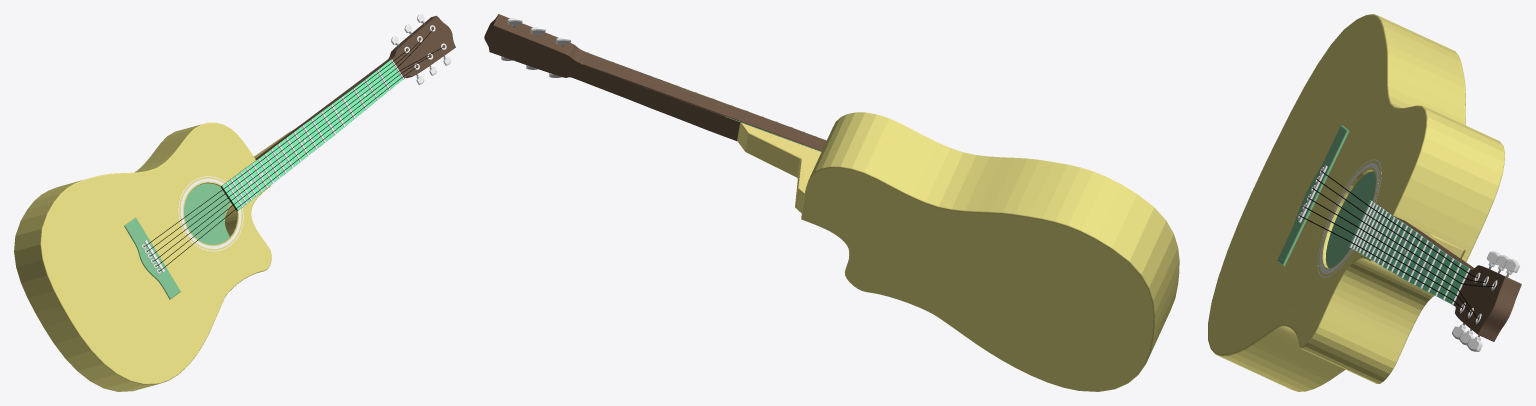
Rendered from EDITED@guitar_playing.fbx.
The picture shows the model from 3 angles, left to right: view 1: azimuth 30°, elevation 25°; view 2: azimuth 150°, elevation 25°; view 3: azimuth 270°, elevation 25°; orthographic projection. The views are drawn at different scales.
Parts seen in each view (by area): view 1: Line002, Shape001, Line018, Group01, Line003, Tube001, Line017; view 2: Line002, Shape001, Line004; view 3: Line002, Shape001, Line018, Group01, Line003, Tube001, Line004, Line017, Line014, Line016, Line013, Line015 (+2 smaller).
Part boxes in pixels (x1,y1,x2,y2): Line002: [14, 122, 271, 391]; Shape001: [221, 15, 455, 210]; Line018: [173, 208, 243, 303]; Group01: [184, 183, 231, 244]; Line003: [124, 217, 180, 299]; Tube001: [180, 178, 241, 248]; Line017: [153, 47, 443, 261]; Line002: [801, 112, 1179, 391]; Shape001: [484, 14, 826, 151]; Line004: [737, 122, 821, 212]; Line002: [1208, 14, 1504, 391]; Shape001: [1348, 200, 1521, 341]; Line018: [1274, 232, 1352, 311]; Group01: [1325, 171, 1375, 268]; Line003: [1277, 125, 1349, 266]; Tube001: [1319, 163, 1379, 273]; Line004: [1410, 224, 1465, 258]; Line017: [1307, 197, 1478, 318]; Line014: [1312, 188, 1493, 287]; Line016: [1303, 206, 1470, 312]; Line013: [1316, 179, 1485, 282]; Line015: [1299, 215, 1462, 307].
Bounding box in the file's own units: 21.08 × 10.46 × 7.23.
